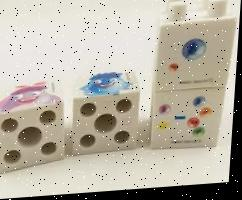cube: (0, 82, 68, 174), (73, 72, 141, 156)
